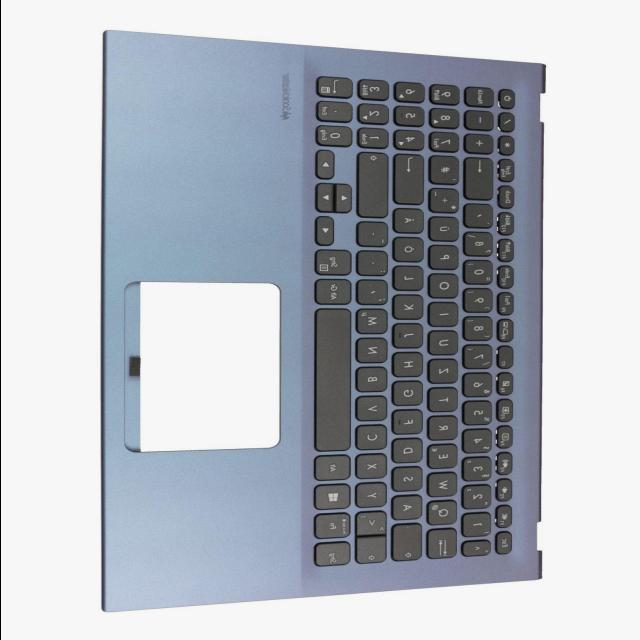0: (465, 262, 495, 286)
1: (464, 514, 493, 538)
2: (464, 486, 494, 510)
3: (464, 458, 494, 482)
4: (465, 430, 493, 454)
5: (465, 402, 493, 426)
6: (464, 374, 494, 398)
7: (464, 346, 494, 370)
8: (464, 317, 494, 342)
9: (465, 290, 495, 314)
a: (393, 496, 425, 522)
accent: (465, 205, 494, 229)
ae: (394, 210, 426, 235)
alt-left: (315, 456, 352, 482)
altgr-right: (316, 280, 352, 306)
b: (357, 368, 389, 394)
c: (357, 426, 389, 452)
caret: (464, 542, 492, 558)
comma: (358, 281, 390, 307)
d: (393, 439, 425, 464)
del: (465, 159, 495, 202)
e: (429, 446, 459, 470)
enter: (394, 154, 426, 206)
f: (394, 411, 426, 435)
g: (393, 382, 425, 408)
h: (394, 353, 426, 378)
hash: (429, 156, 461, 186)
i: (430, 304, 460, 328)
j: (394, 325, 426, 350)
k: (394, 296, 426, 321)
keyboard: (305, 67, 527, 575)
l: (394, 267, 426, 292)
less: (357, 512, 389, 536)
m: (357, 309, 389, 335)
minus: (359, 222, 389, 248)
n: (357, 339, 389, 365)
o: (430, 275, 460, 299)
oe: (395, 238, 426, 263)
p: (430, 247, 460, 271)
plus: (430, 190, 461, 214)
point: (358, 251, 389, 277)
q: (429, 502, 459, 527)
r: (429, 417, 459, 441)
s: (393, 468, 425, 493)
shift-left: (357, 538, 388, 566)
shift-lock: (392, 524, 424, 563)
shift-right: (357, 154, 390, 220)
space: (316, 309, 353, 452)
ss: (465, 233, 494, 257)
strg-left: (315, 543, 351, 569)
strg-right: (316, 251, 353, 277)
t: (430, 389, 460, 413)
tab: (428, 529, 459, 560)
u: (429, 332, 460, 357)
ue: (430, 219, 460, 243)
v: (357, 397, 389, 423)
w: (429, 474, 460, 499)
x: (357, 455, 389, 481)
y: (357, 484, 389, 509)
z: (429, 360, 460, 385)
